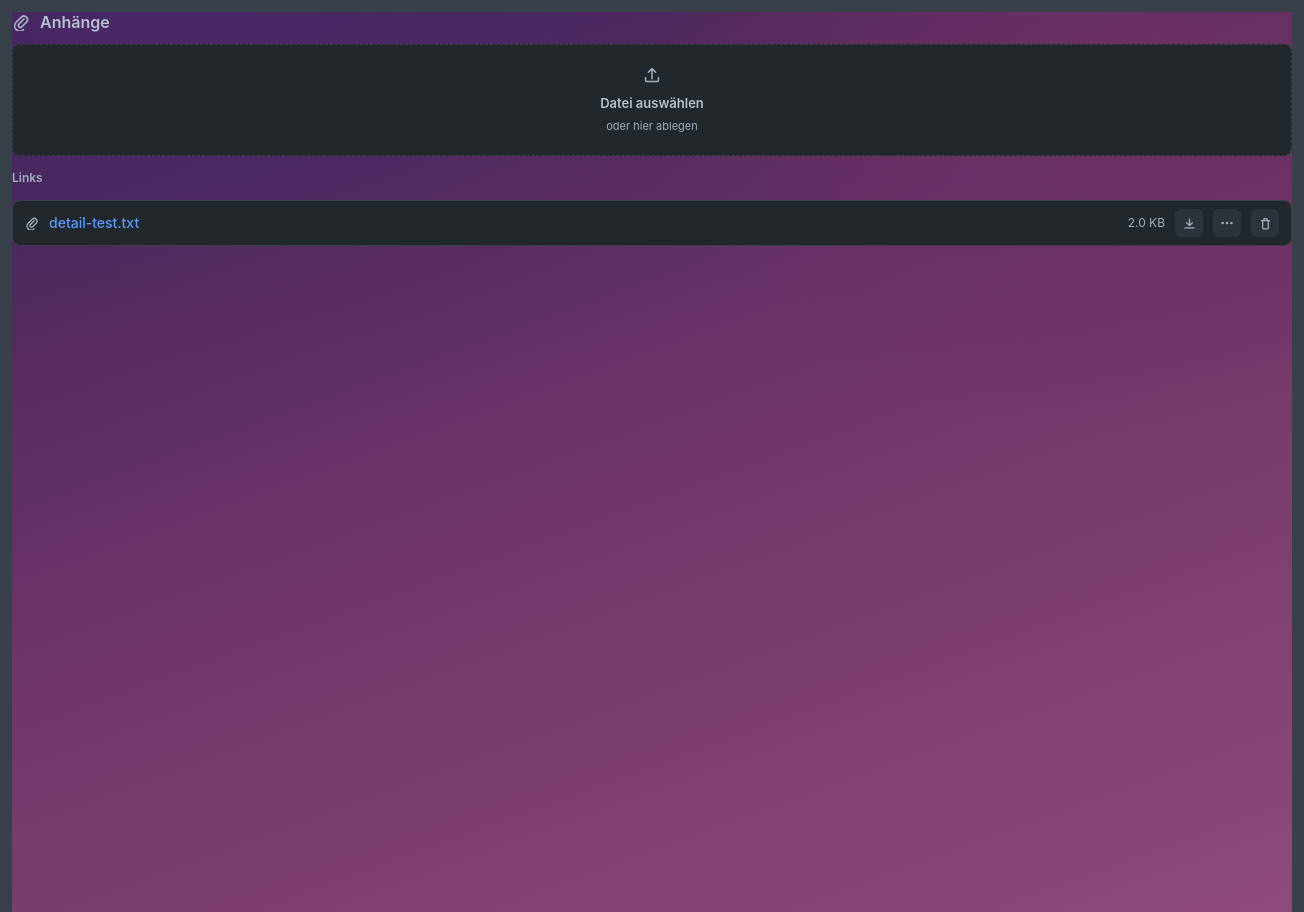
CardAttachments › keeps the attachment listed and reports the error when a delete fails
Click the button named "Löschen" at (1265, 223), box [1251,209,1279,237]
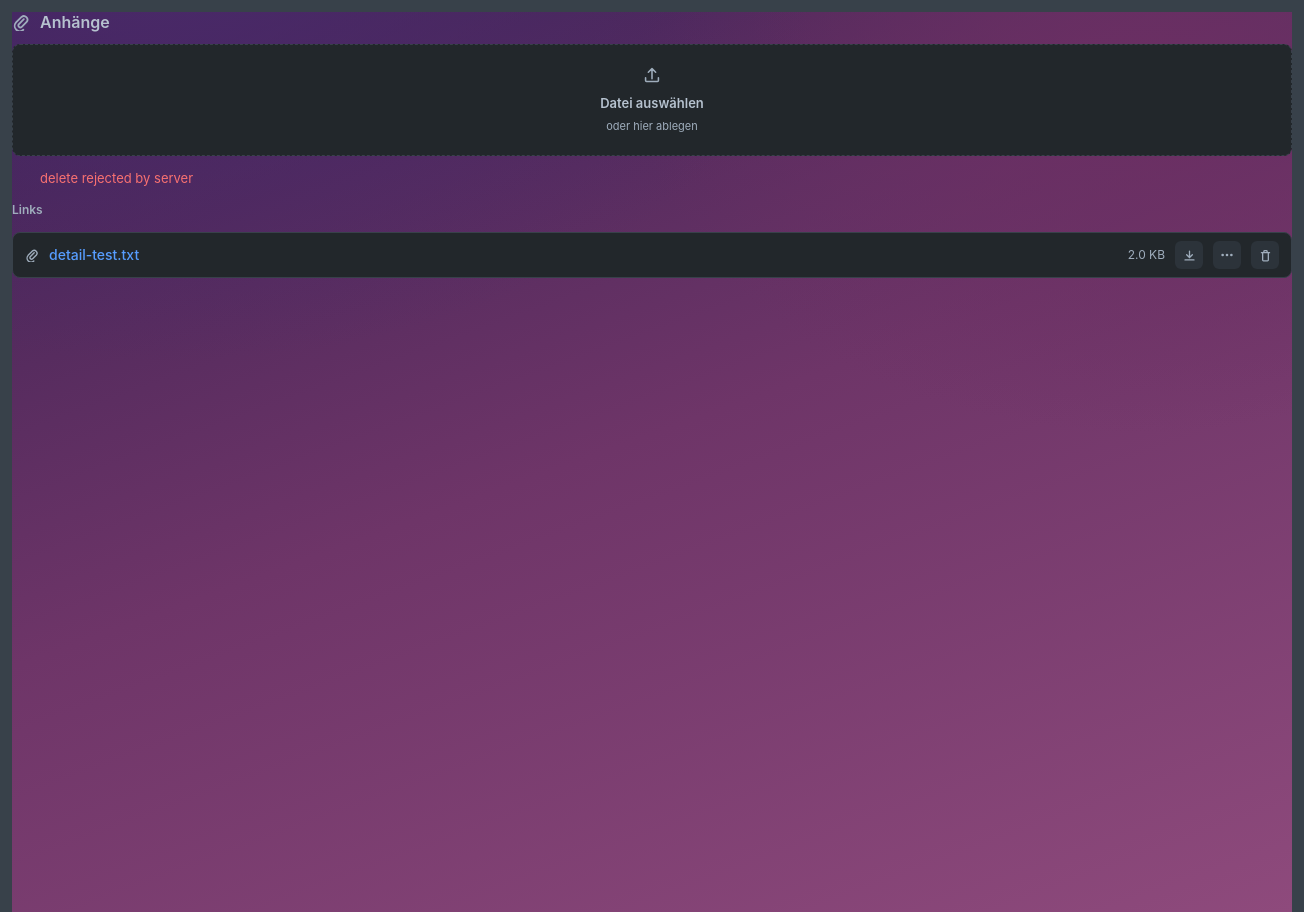
Expected: the link "detail-test.txt" is shown, [49,246,139,263]
Expected: the message reads "delete rejected by server", [40,170,193,186]
